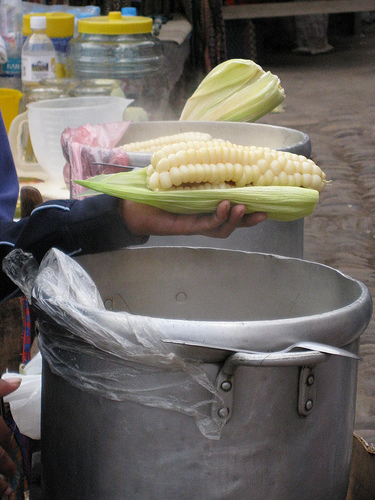corn: (142, 135, 327, 195)
